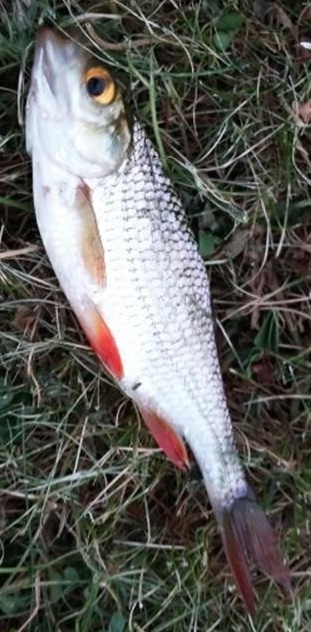Scardinius erythrophthalmus: (20, 20, 291, 612)
